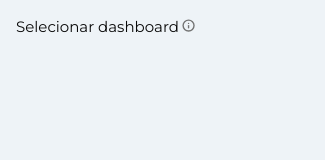
it: DashboardInfoHint — acionamento › (b) hover diretamente no ícone 'i' abre o tooltip com o conteúdo certo
Hover over the button named "mais informações sobre os dashboards salvos".
mouse_move(188, 26)  # box [179, 16, 198, 35]
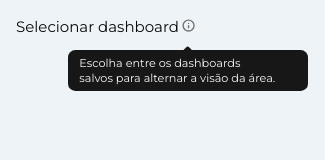
expect the tooltip shows "Escolha entre os dashboards salvos": met, box [79, 56, 275, 85]
